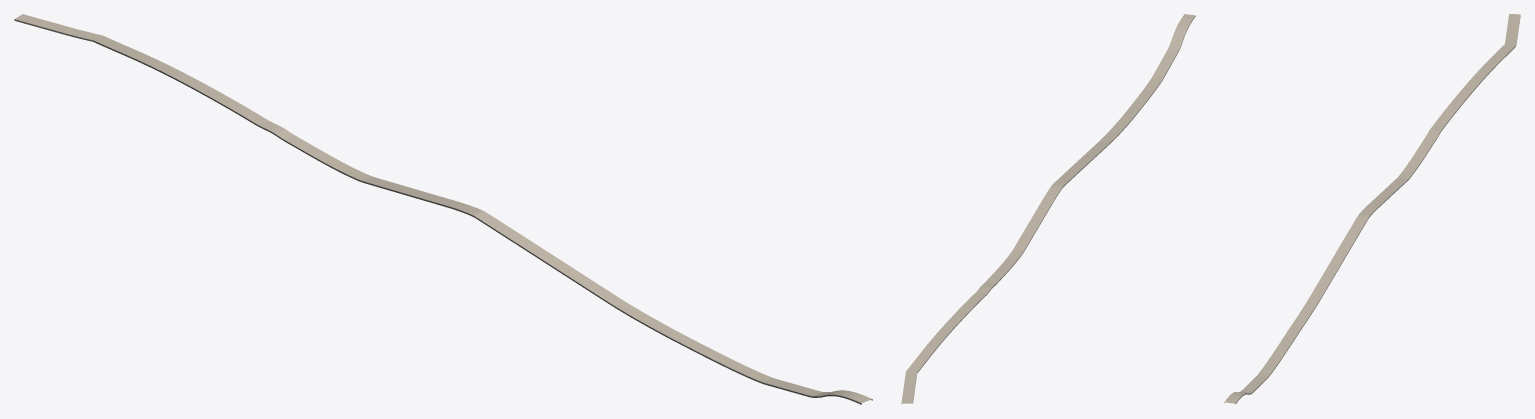
File: SM_Road_to_girls.fbx
3 views of the same model, side by side, from view 1: azimuth 30°, elevation 25°; view 2: azimuth 150°, elevation 25°; view 3: azimuth 330°, elevation 25° (orthographic). The views are drawn at different scales.
Visible parts, largest first — view 1: SM_Road_to_girls; view 2: SM_Road_to_girls; view 3: SM_Road_to_girls.
Boxes of the visible parts, x1,y1,x2,y2 form: SM_Road_to_girls: [14, 14, 872, 404]; SM_Road_to_girls: [901, 14, 1195, 403]; SM_Road_to_girls: [1224, 14, 1520, 404].
Bounding box in the file's own units: 137 × 18.14 × 572.
